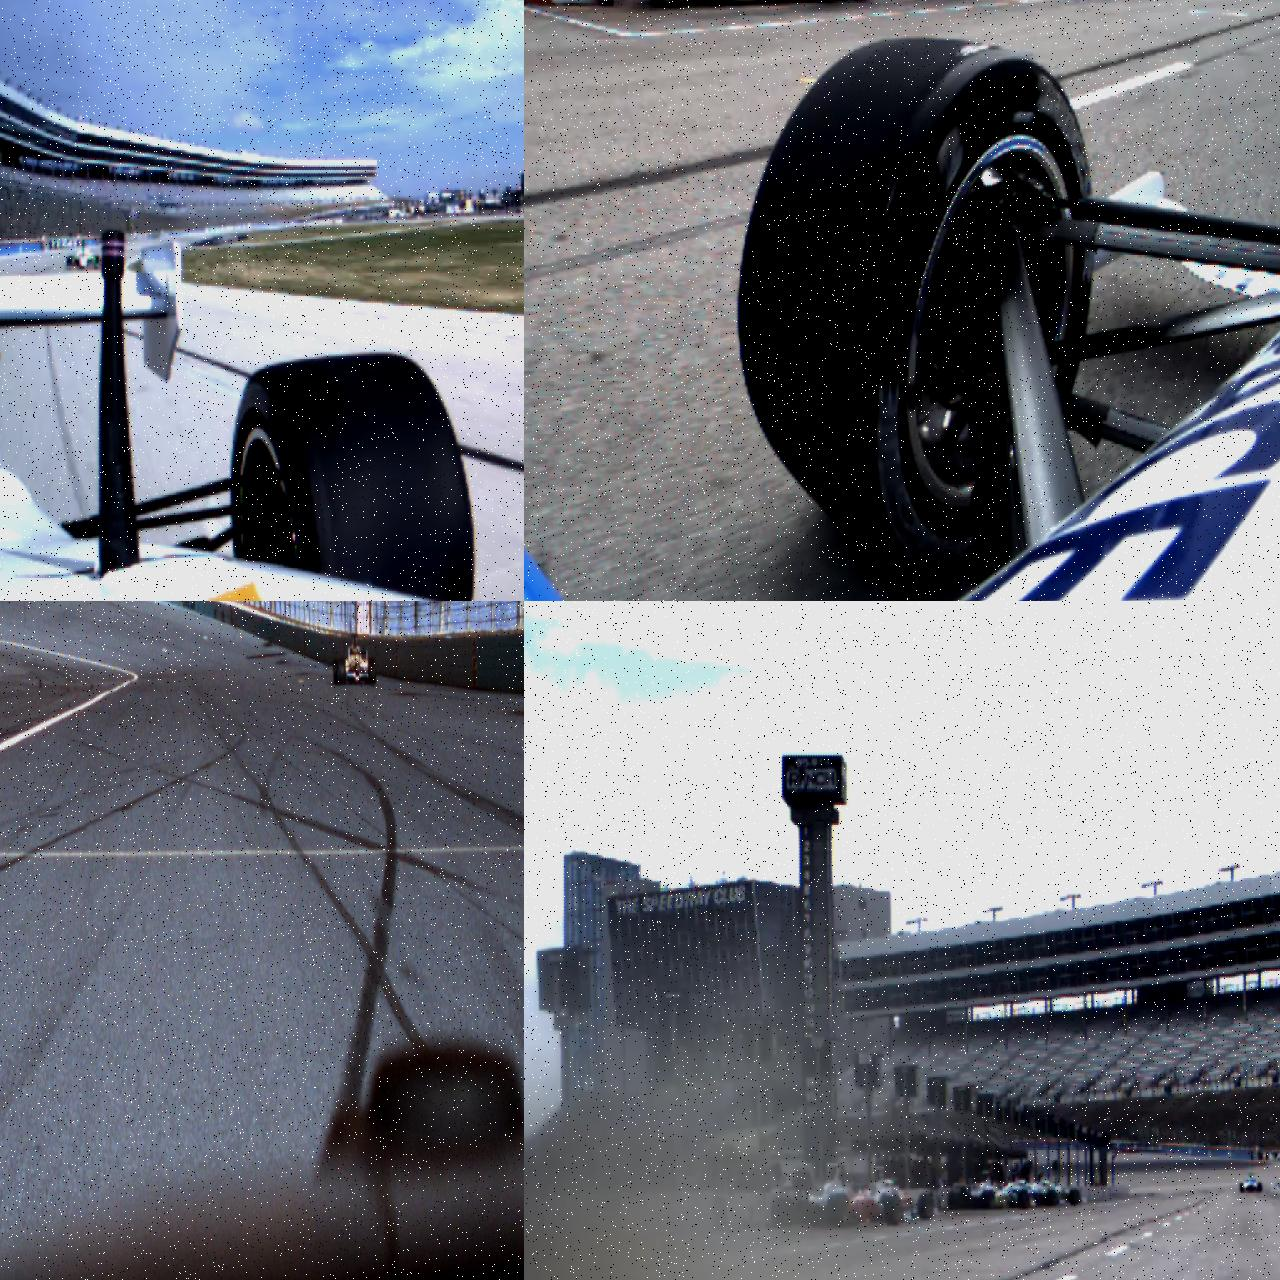AV: (334, 633, 376, 686), (66, 248, 100, 270), (1239, 1172, 1262, 1192)
Wheel: (737, 39, 1096, 583), (230, 350, 474, 601), (771, 1197, 795, 1227), (829, 1197, 849, 1225), (885, 1196, 901, 1225), (918, 1193, 934, 1219), (649, 0, 689, 11), (980, 1191, 994, 1208), (368, 658, 376, 685), (1017, 1192, 1030, 1208), (338, 660, 346, 685), (1069, 1189, 1081, 1205), (1048, 1190, 1057, 1206), (334, 660, 339, 685), (1258, 1183, 1262, 1192), (1239, 1183, 1244, 1192)
